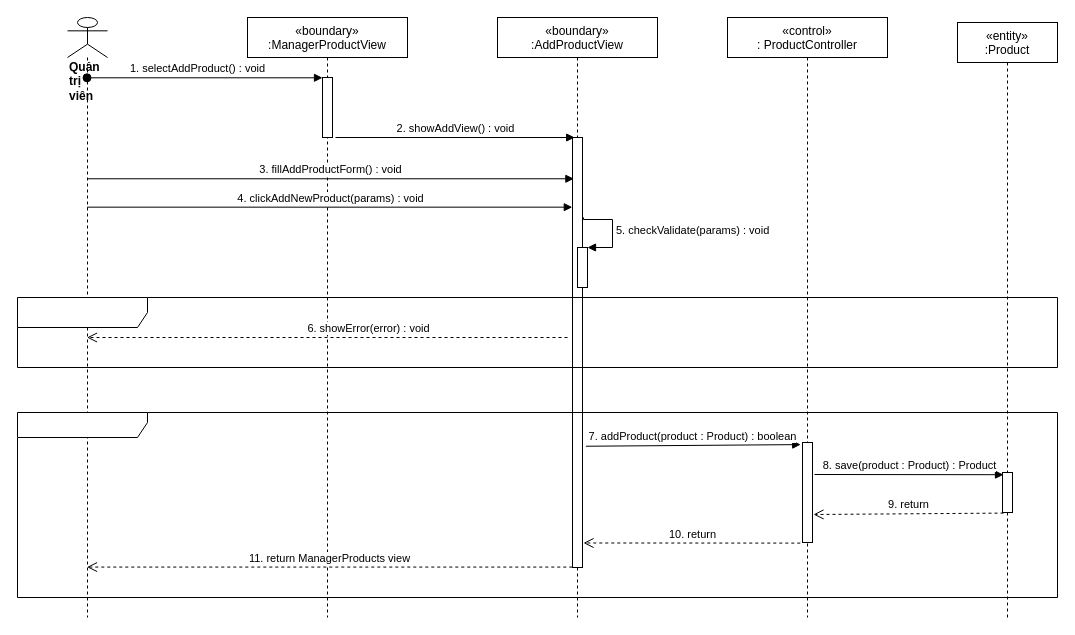
The diagram is 1075 pixels wide and 635 high, and some of its shapes have lost their labels. Each missing label, with the centre of its shape:
"check valiate false" goes at point 537,332.
"check validate true" goes at point 537,505.
